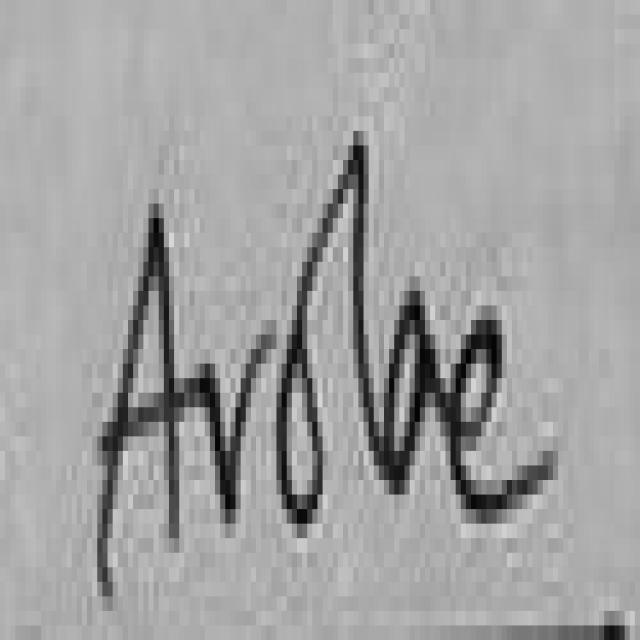A: (97, 204, 179, 596)
a: (384, 291, 456, 495)
c: (451, 320, 558, 524)
l: (343, 145, 384, 465)
o: (282, 335, 323, 524)
v: (184, 335, 276, 516)
